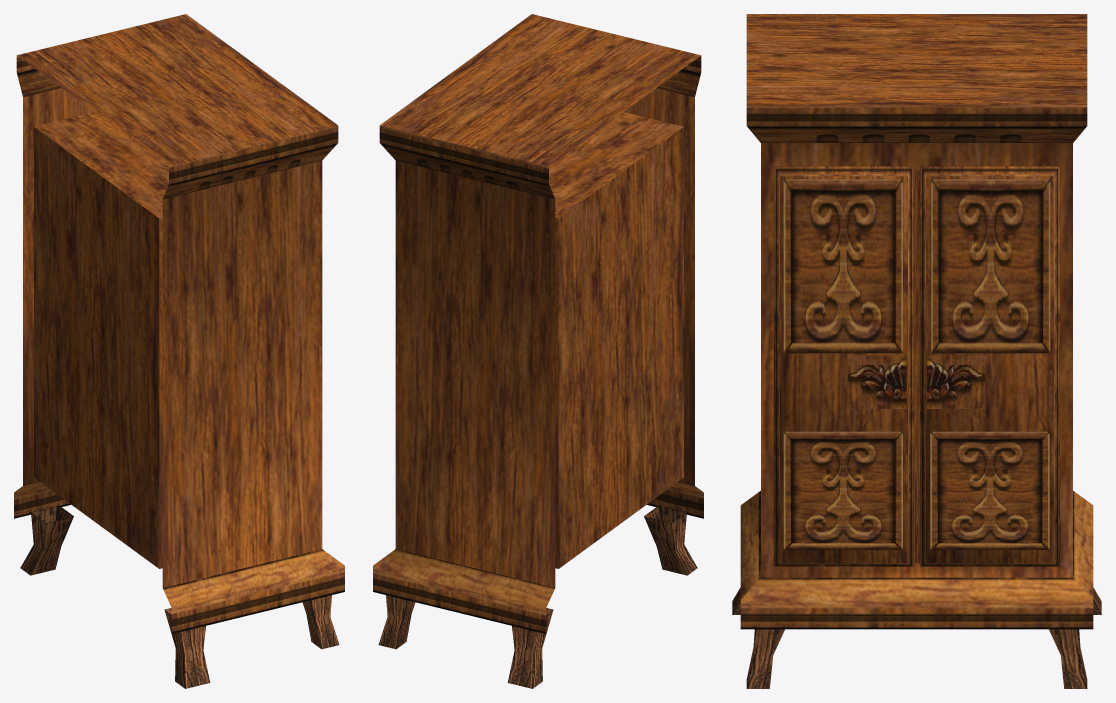
Rendered from INST_LT_WARDROPE.fbx.
3 views of the same model, side by side, from view 1: azimuth 30°, elevation 25°; view 2: azimuth 150°, elevation 25°; view 3: azimuth 270°, elevation 25° (orthographic). The views are drawn at different scales.
Visible parts, largest first — view 1: INST_LT_WARDROPE; view 2: INST_LT_WARDROPE; view 3: INST_LT_WARDROPE.
Part boxes in pixels (x1,y1,x2,y2): INST_LT_WARDROPE: (14, 14, 344, 688); INST_LT_WARDROPE: (373, 14, 703, 688); INST_LT_WARDROPE: (732, 14, 1101, 688).
Size of the model in its own units: 6373 by 18269 by 10514.
5 materials, 5 textured.
